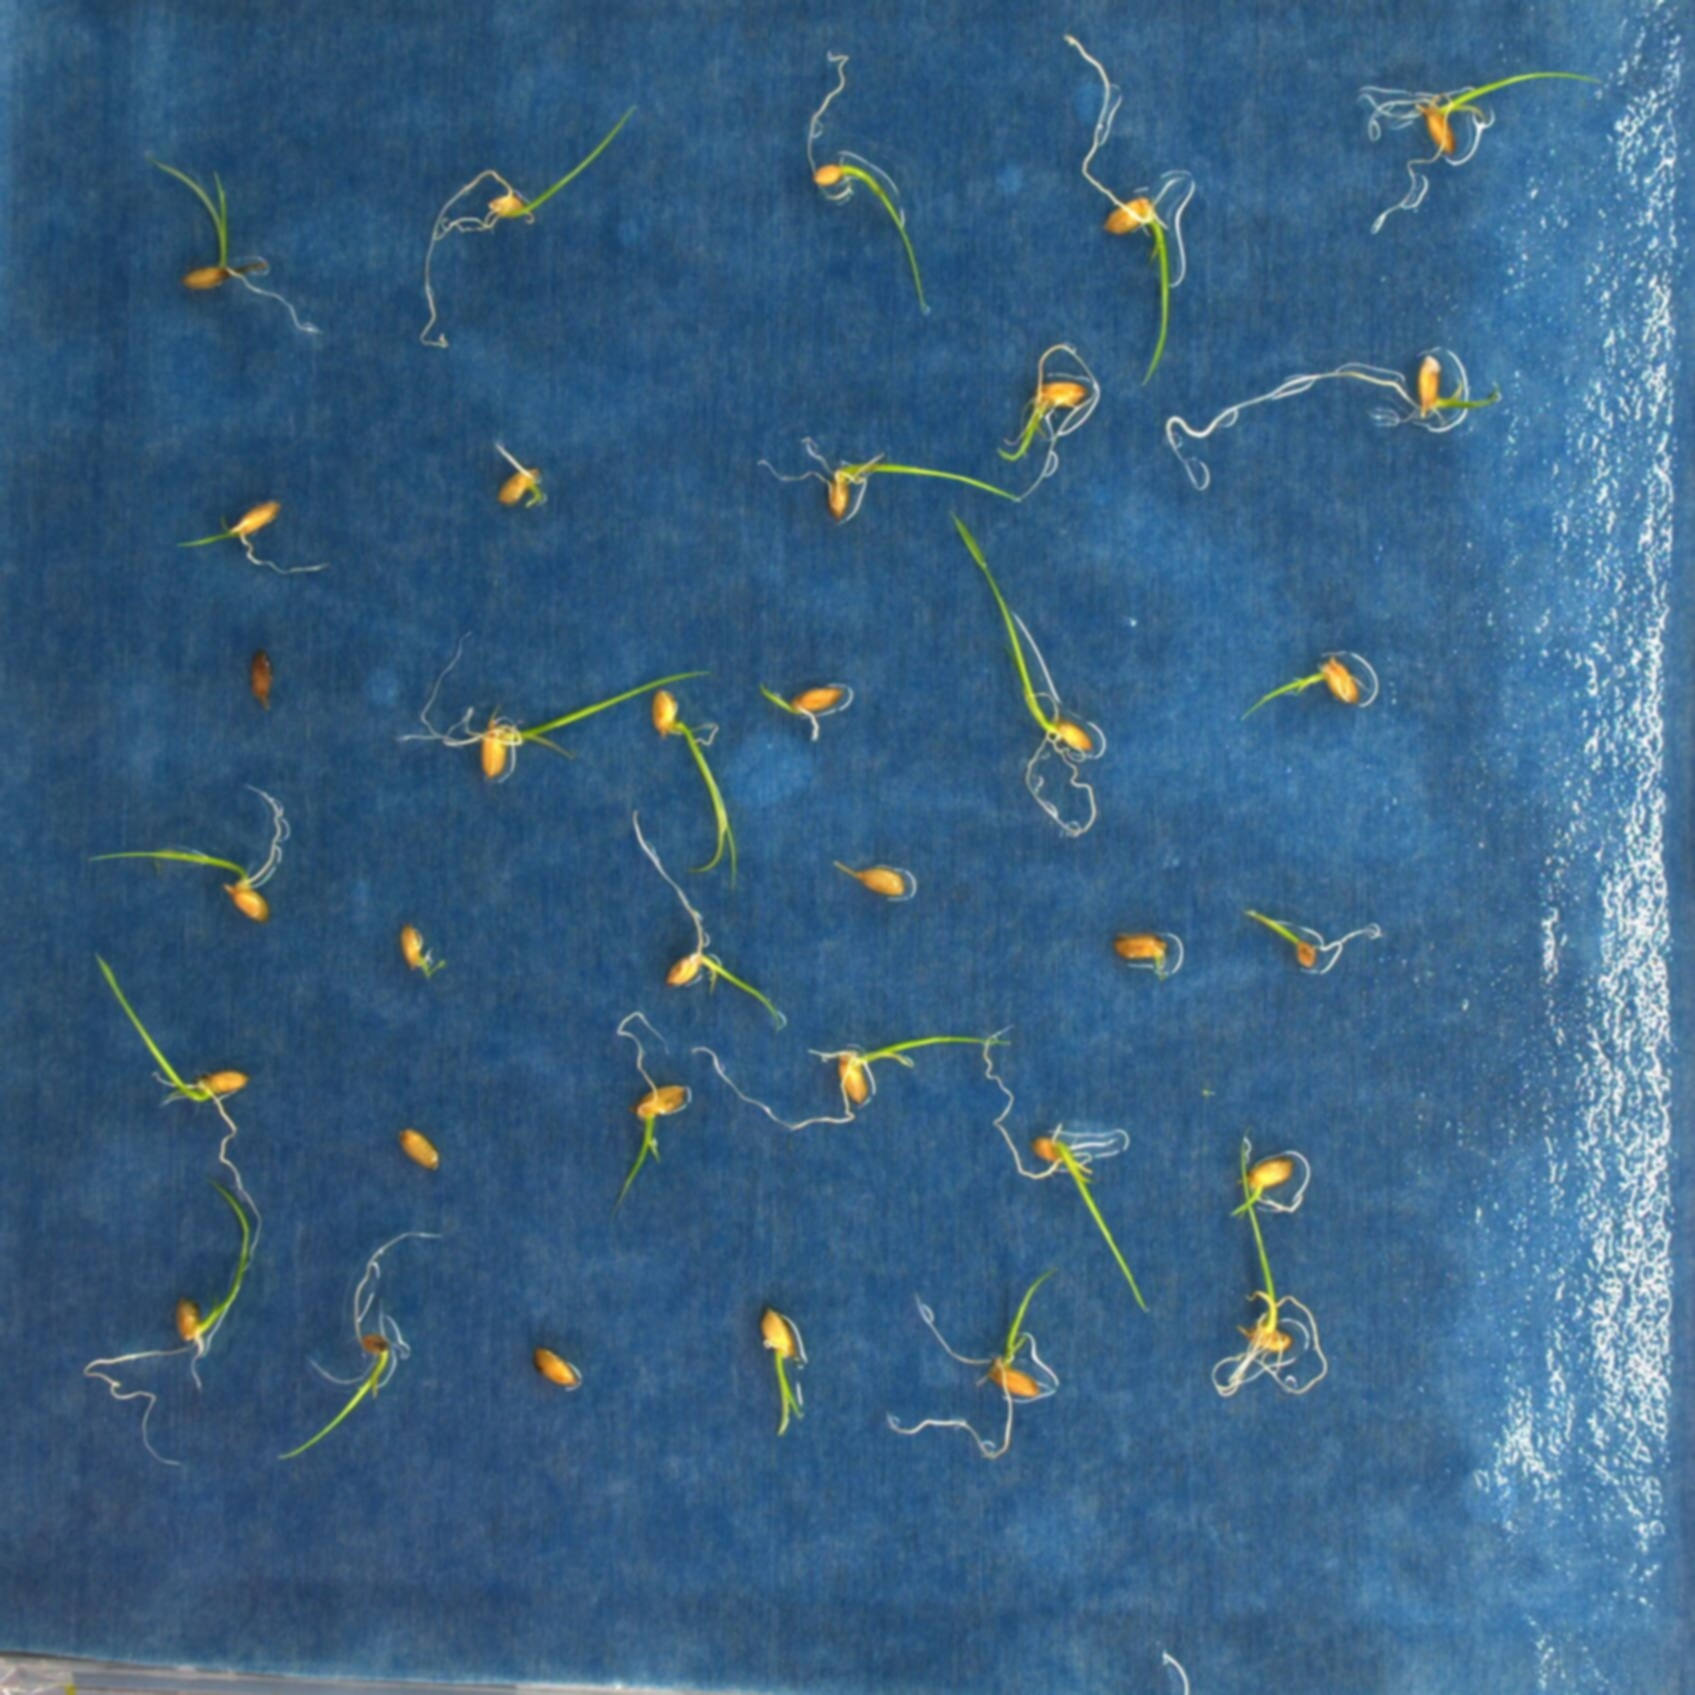not sprout: (1116, 934, 1167, 979), (396, 1124, 439, 1173), (529, 1347, 582, 1388), (245, 650, 278, 706)
sprout: (422, 101, 638, 348), (981, 1021, 1159, 1319), (93, 955, 259, 1262), (79, 1184, 248, 1465), (1062, 31, 1194, 386), (950, 511, 1094, 834), (1159, 349, 1498, 484), (405, 633, 711, 781), (1354, 75, 1608, 234), (882, 1256, 1074, 1461), (281, 1231, 453, 1456), (629, 810, 787, 1028), (806, 48, 931, 317), (151, 161, 324, 338), (688, 1037, 1010, 1128), (95, 784, 279, 920), (1226, 1127, 1312, 1399), (754, 436, 1024, 517), (650, 685, 745, 886), (1000, 341, 1099, 501), (616, 1014, 691, 1211), (175, 490, 324, 576), (1245, 903, 1378, 967), (1242, 650, 1367, 711), (757, 1302, 810, 1442), (756, 677, 847, 744), (1229, 1150, 1296, 1214), (830, 851, 908, 902), (494, 442, 545, 508), (394, 920, 441, 979)
